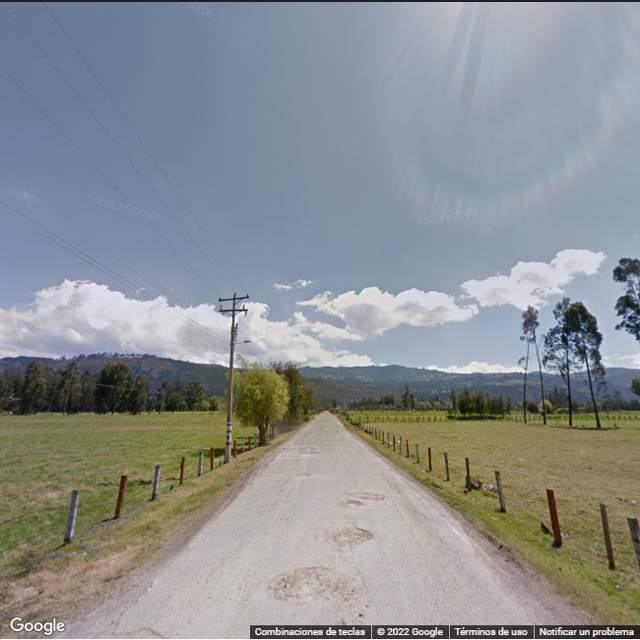D40: (281, 563, 364, 607), (338, 524, 378, 548)
